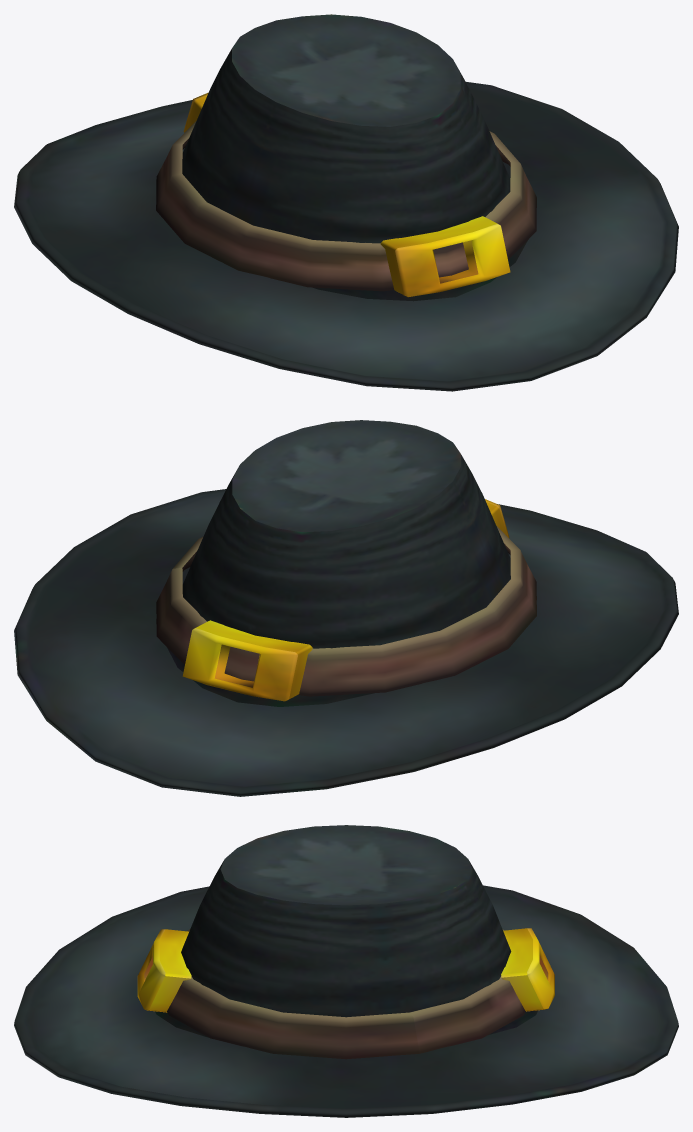
Rendered from cowboy-hat.glb.
The picture shows the model from 3 angles, top to bottom: view 1: azimuth 30°, elevation 25°; view 2: azimuth 150°, elevation 25°; view 3: azimuth 270°, elevation 25°; orthographic projection. The views are drawn at different scales.
Visible parts, largest first — view 1: Cowboy Hat mesh; view 2: Cowboy Hat mesh; view 3: Cowboy Hat mesh.
Part boxes in pixels (x1,y1,x2,y2): Cowboy Hat mesh: [14, 14, 678, 391]; Cowboy Hat mesh: [14, 420, 678, 796]; Cowboy Hat mesh: [14, 825, 678, 1117].
Bounding box in the file's own units: 2.15 × 0.6699 × 2.5.
1 material, 1 textured.
